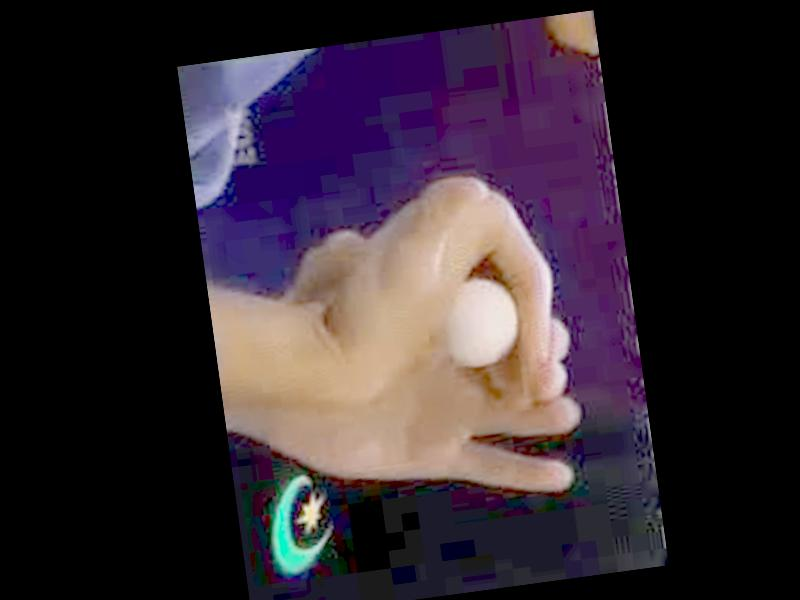Eggs: (445, 271, 525, 370)
